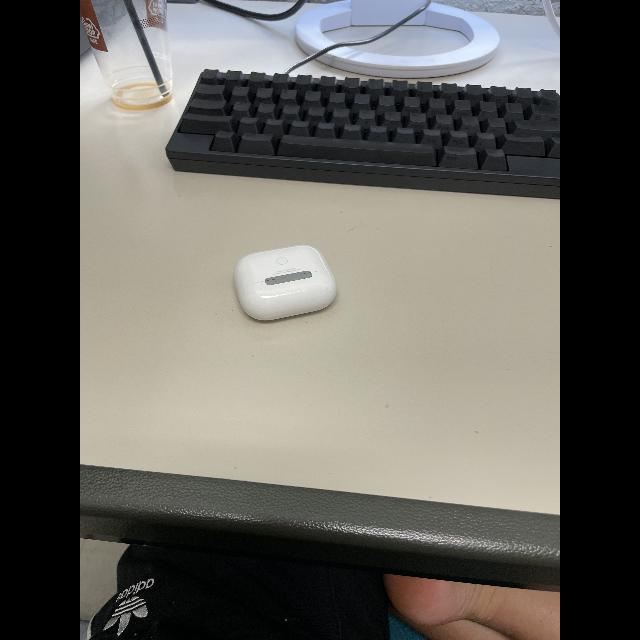airpod3: (231, 242, 337, 324)
